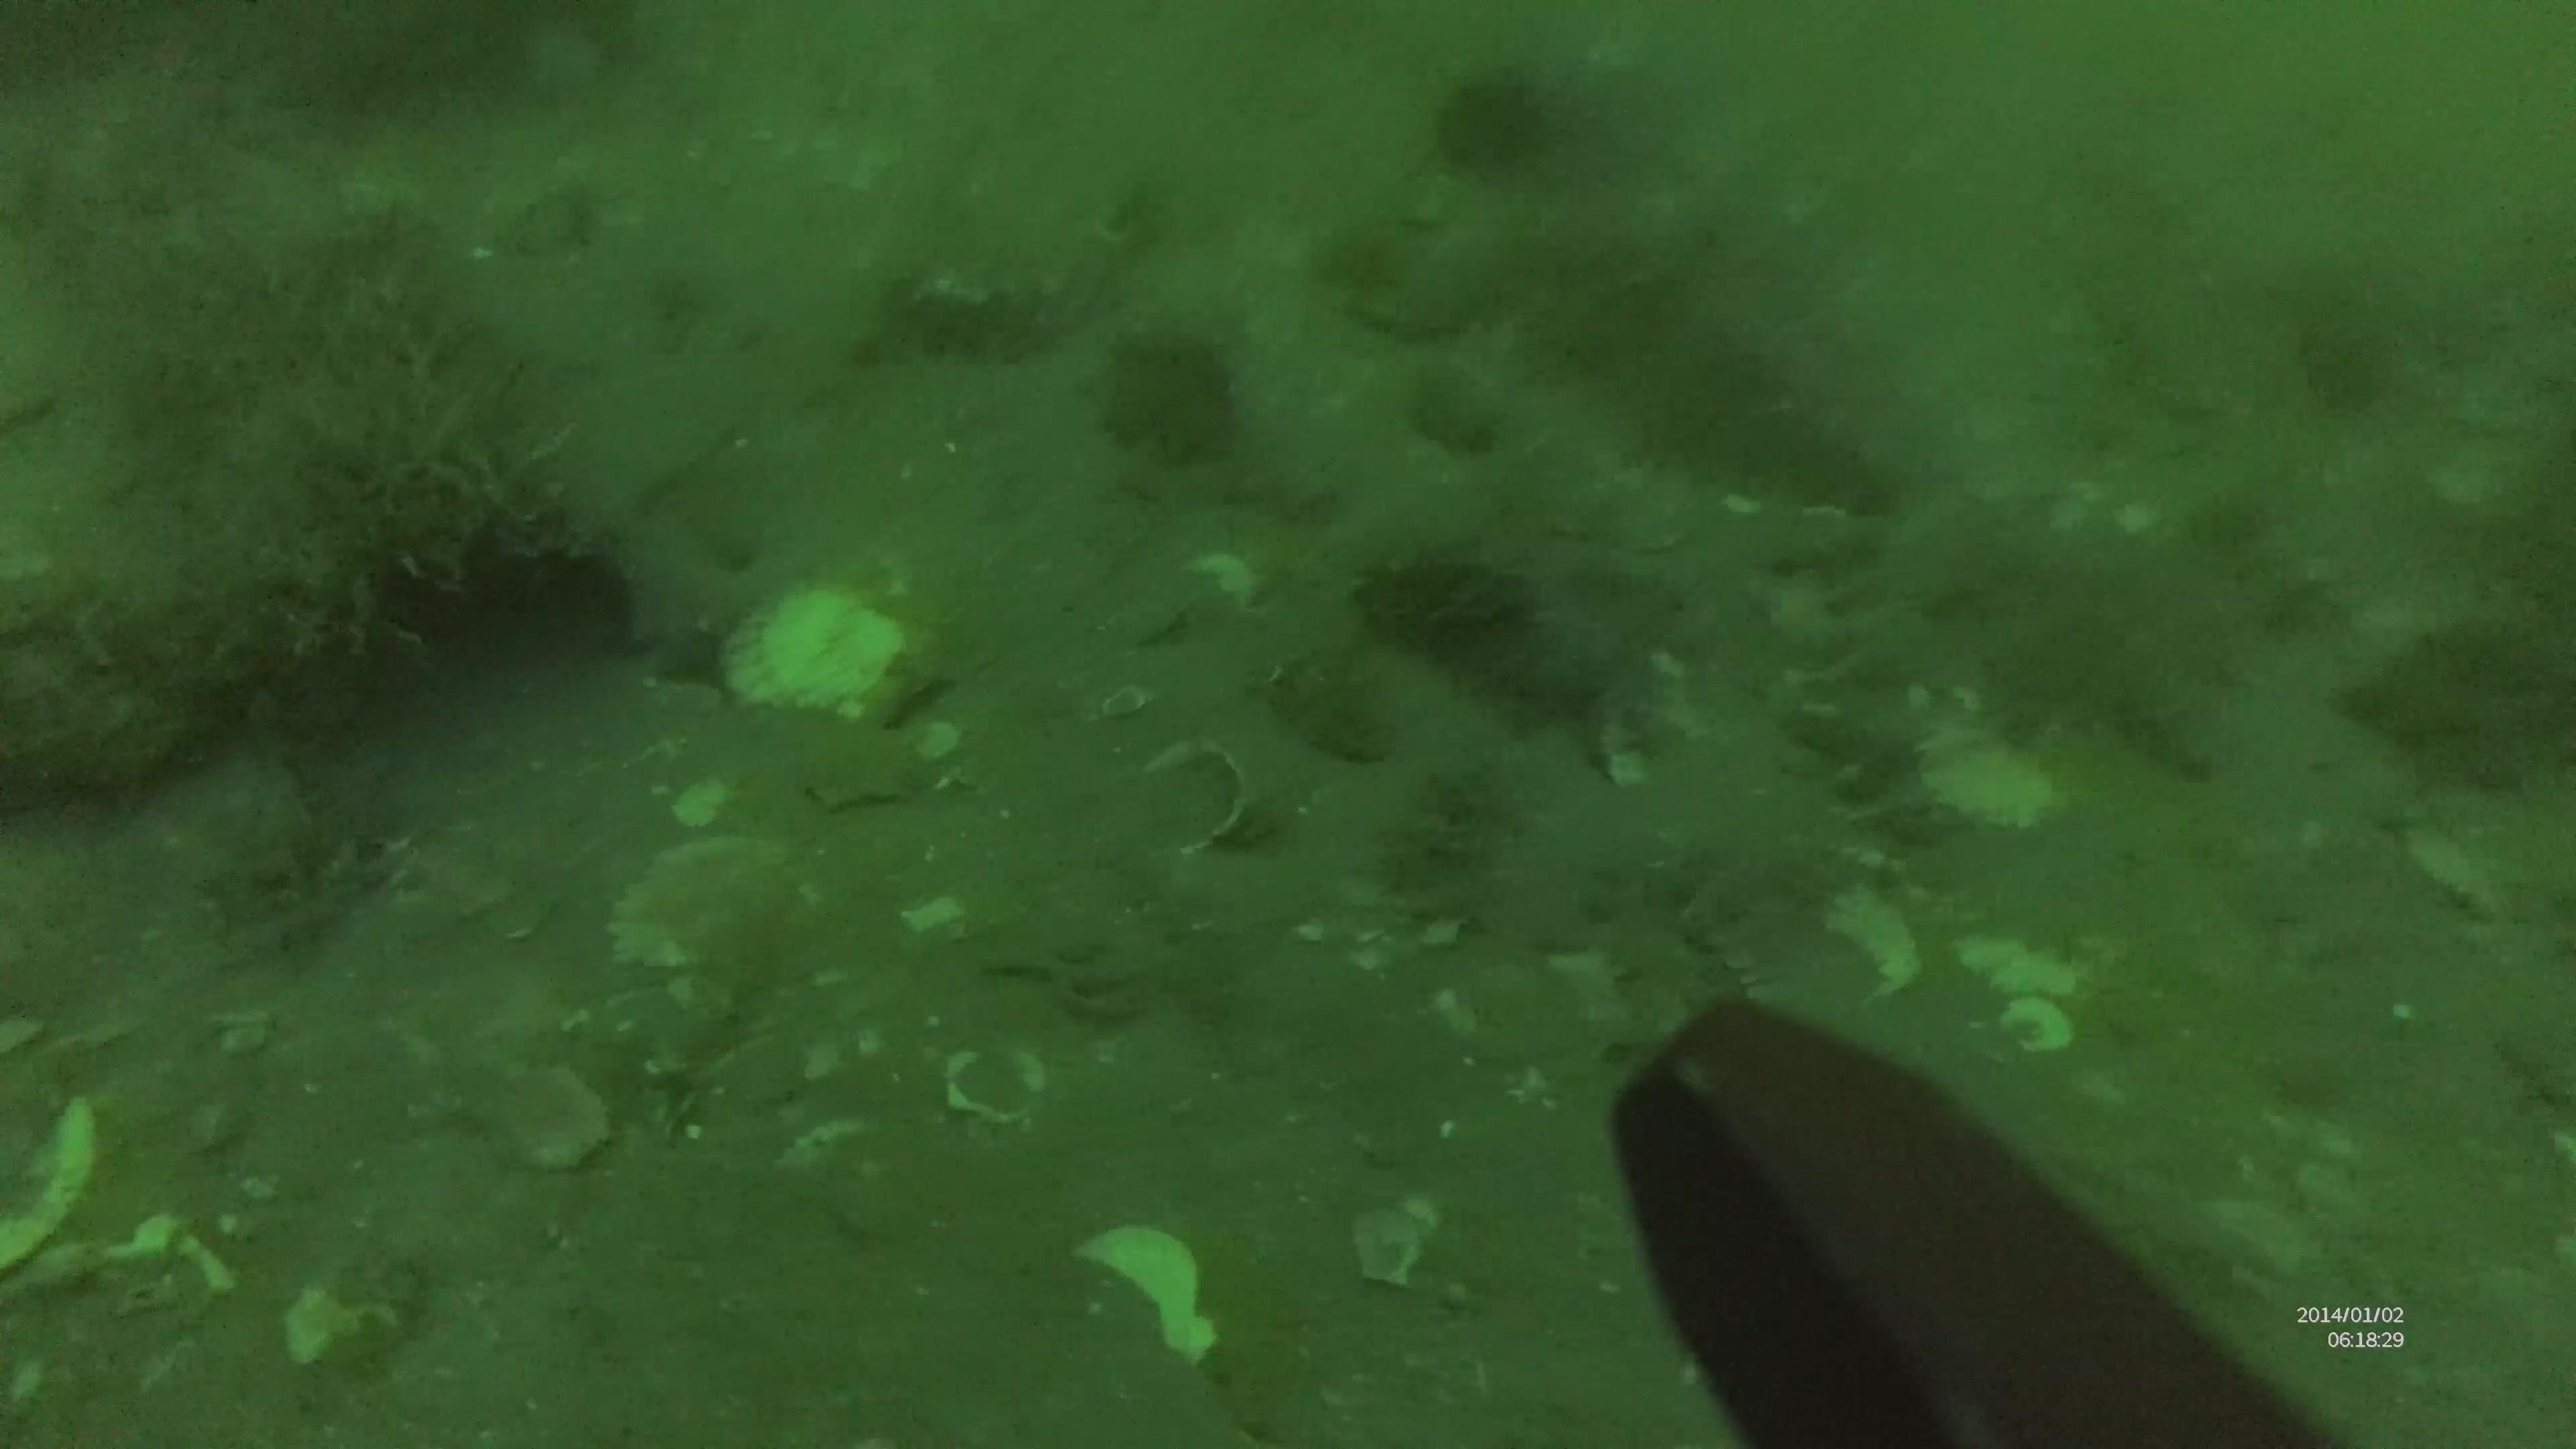echinus: (1430, 64, 1566, 175)
scallop: (706, 556, 962, 736)
